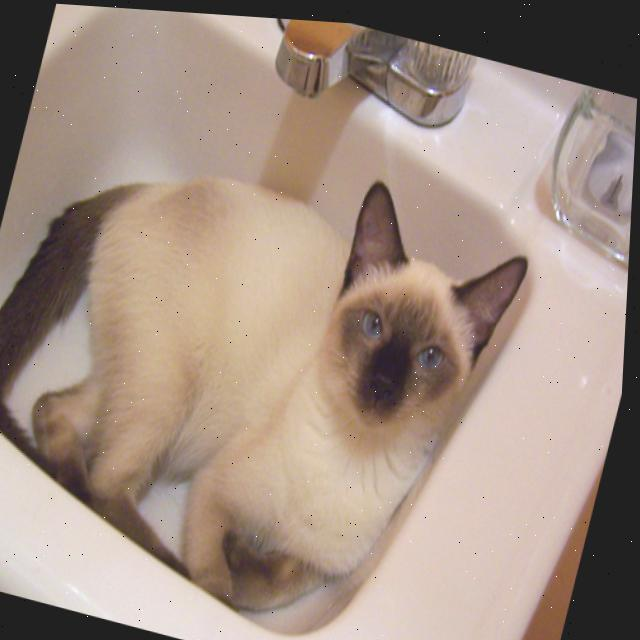Siamese: (0, 78, 550, 640)
